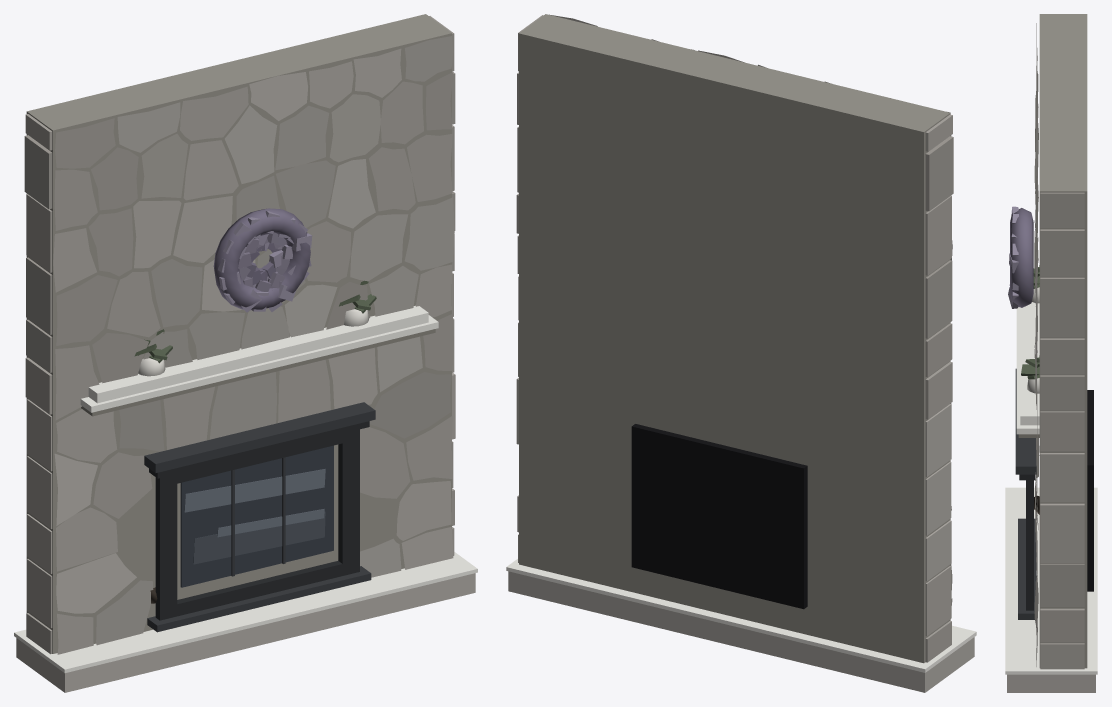
Rendered from fireplace4.glb.
3 views of the same model, side by side, from view 1: azimuth 30°, elevation 25°; view 2: azimuth 150°, elevation 25°; view 3: azimuth 270°, elevation 25° (orthographic). The views are drawn at different scales.
Parts seen in each view (by area): view 1: root; view 2: root; view 3: root.
Part boxes in pixels (<box>): root: <box>14,14,477,692</box>; root: <box>506,14,976,692</box>; root: <box>1005,14,1097,692</box>.
Size of the model in its own units: 2.16 by 2.75 by 0.4602.
